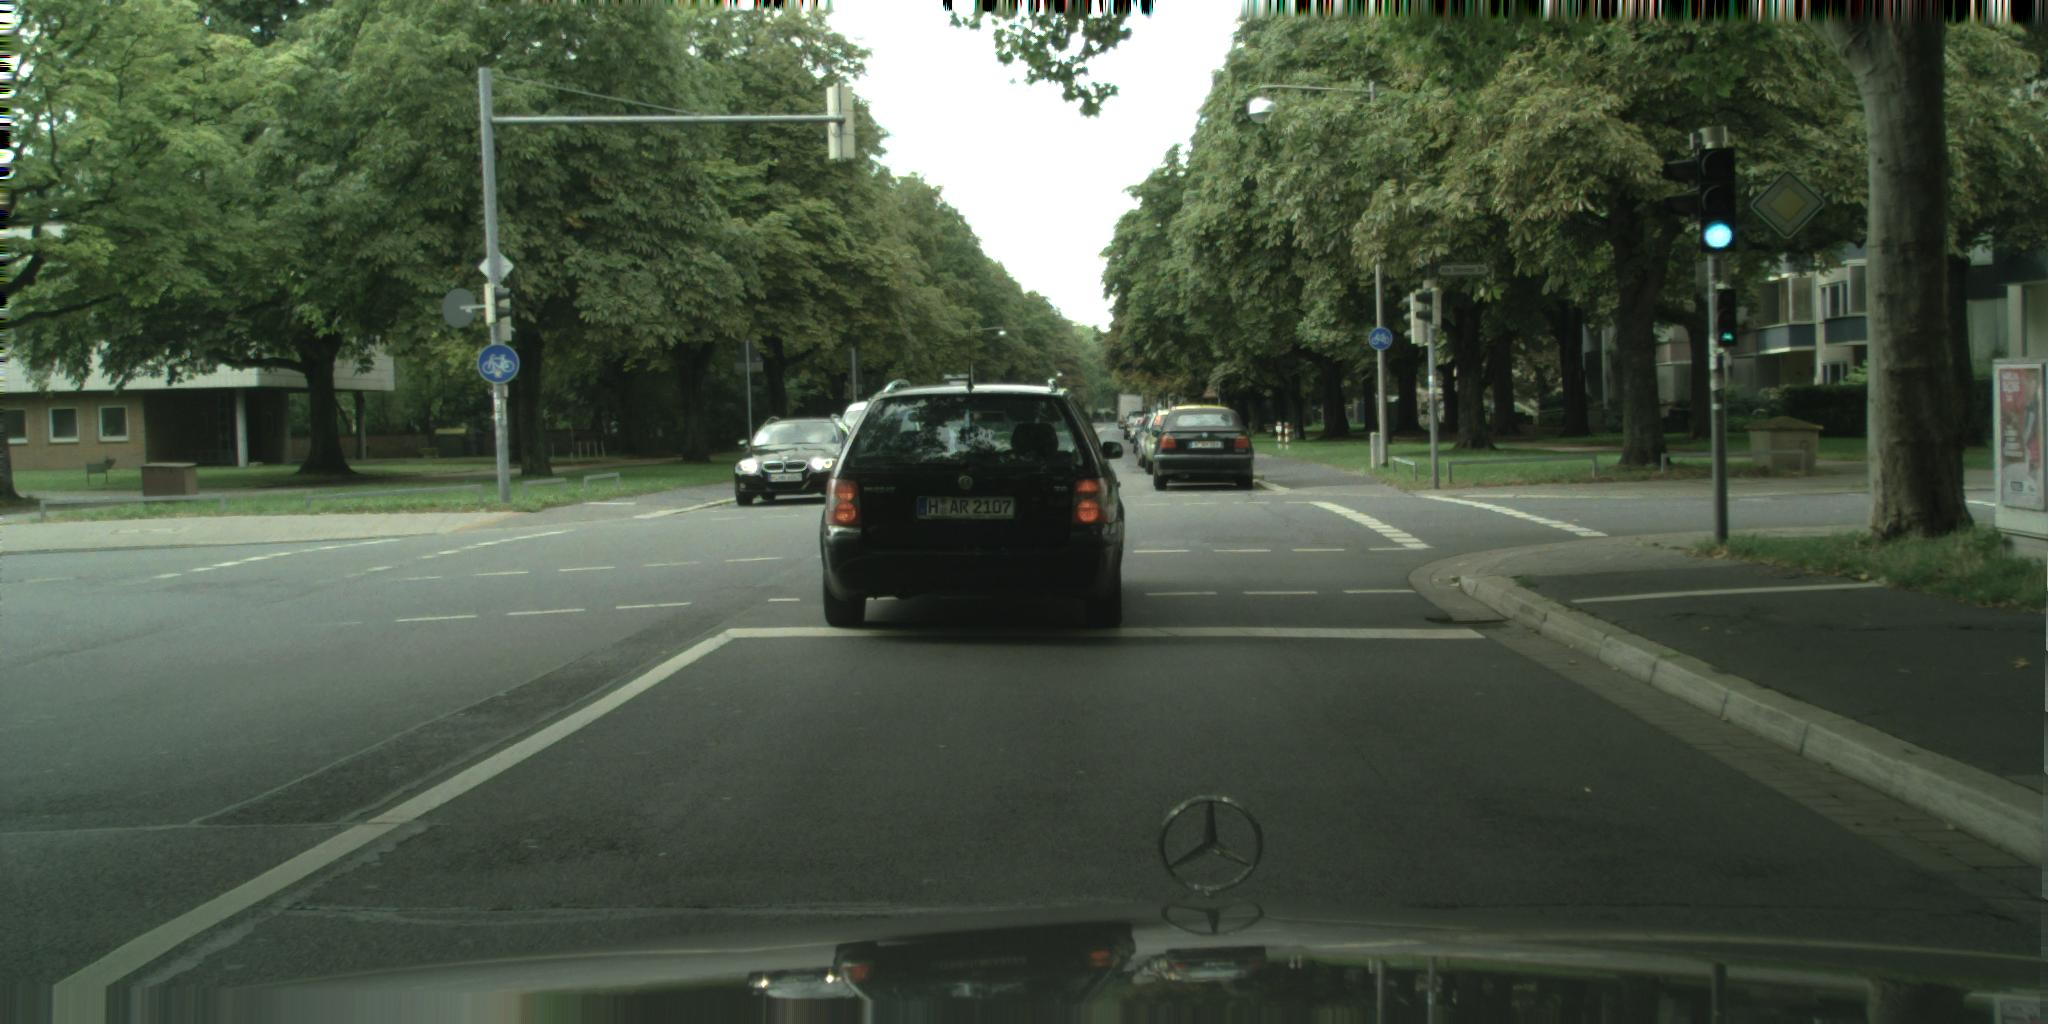car: (820, 377, 1126, 630), (734, 415, 854, 505), (1152, 405, 1255, 491), (1145, 411, 1178, 475), (840, 401, 880, 438)
truck: (1119, 394, 1144, 430)
